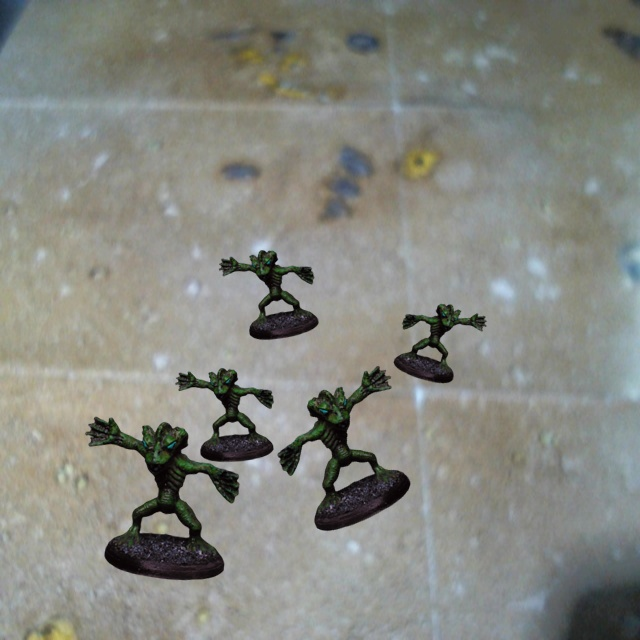pieza_juego: (85, 417, 239, 579), (277, 366, 410, 530), (175, 368, 273, 461), (219, 250, 318, 339), (394, 304, 486, 382)
